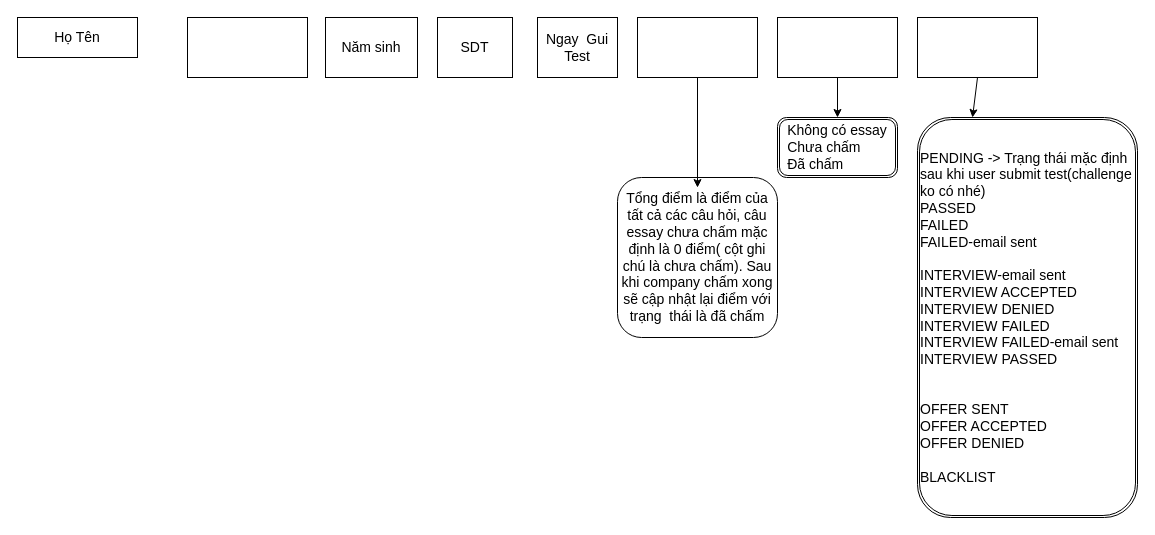
Image size: 1155x535. Some labels were removed from this diagram. The centre of each missing label's shape, as x and y in pixels:
Email: the point at 247,47
Ghi chú Essay: the point at 837,47
Status: the point at 977,47
Tổng điểm: the point at 697,47
